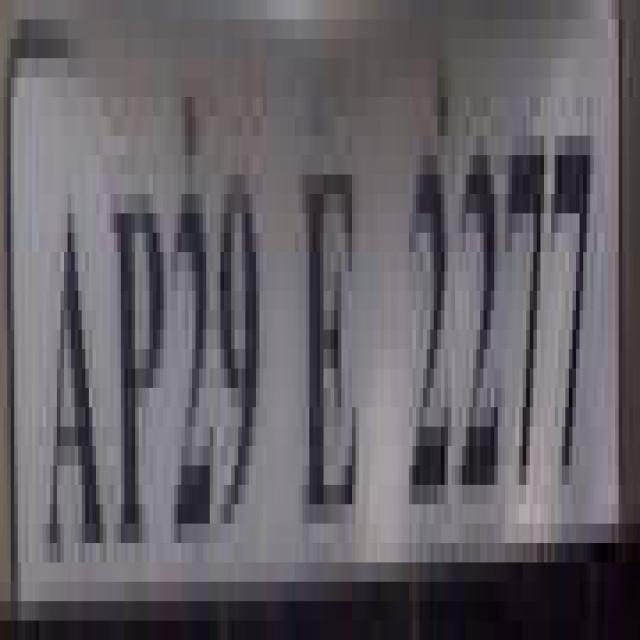license_plate: (21, 0, 640, 582)
